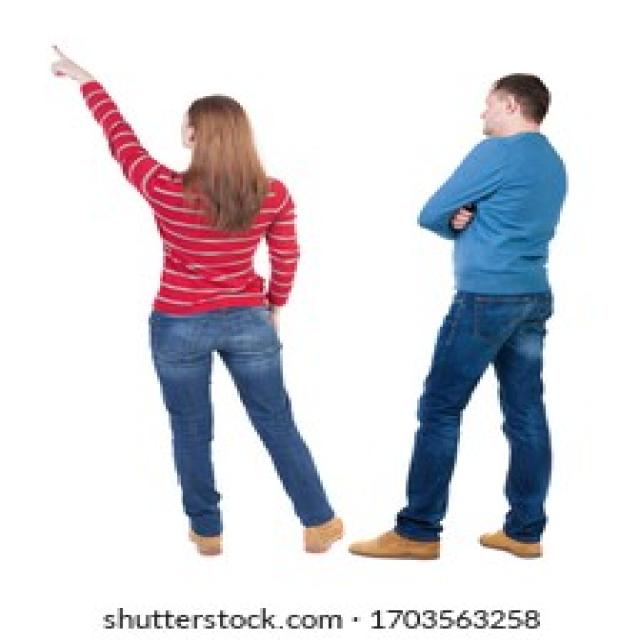adult: (48, 43, 345, 554), (346, 70, 566, 556)
